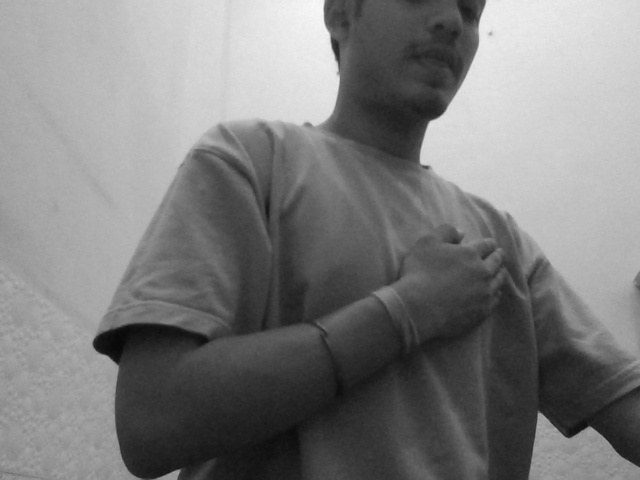Sorry: (349, 190, 561, 365)
